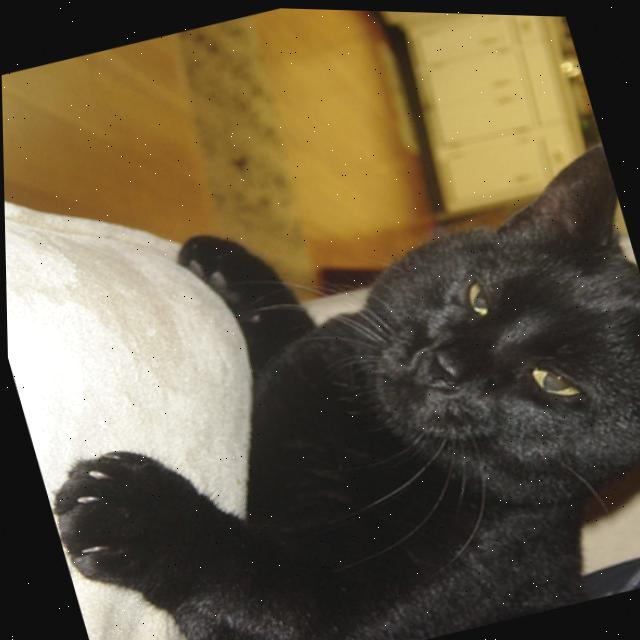Bombay: (2, 113, 640, 640)
